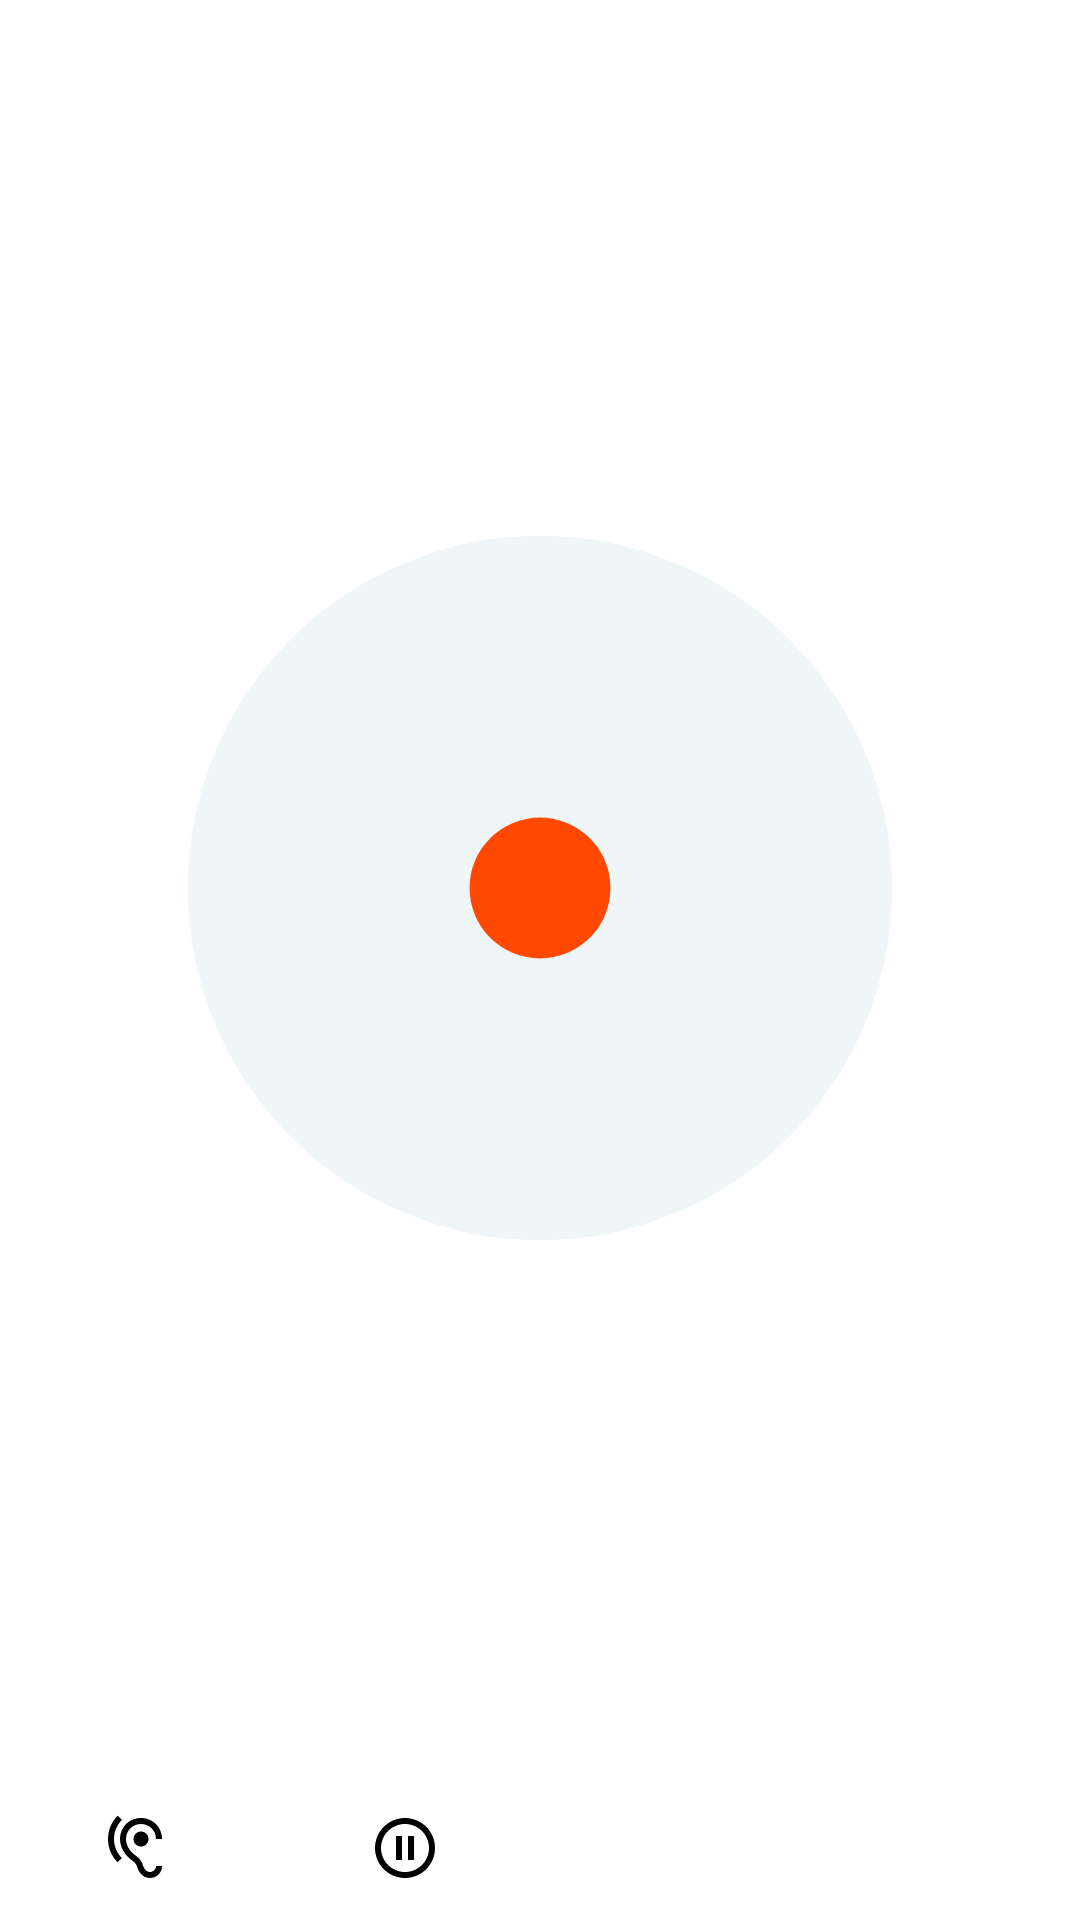

Icon bounding boxes for this 1080px×1920px phone screenshot, format bbox=[x1, y1, x2, y2]:
hearing: bbox=[108, 1815, 162, 1878]
pause circle: bbox=[375, 1818, 435, 1878]
